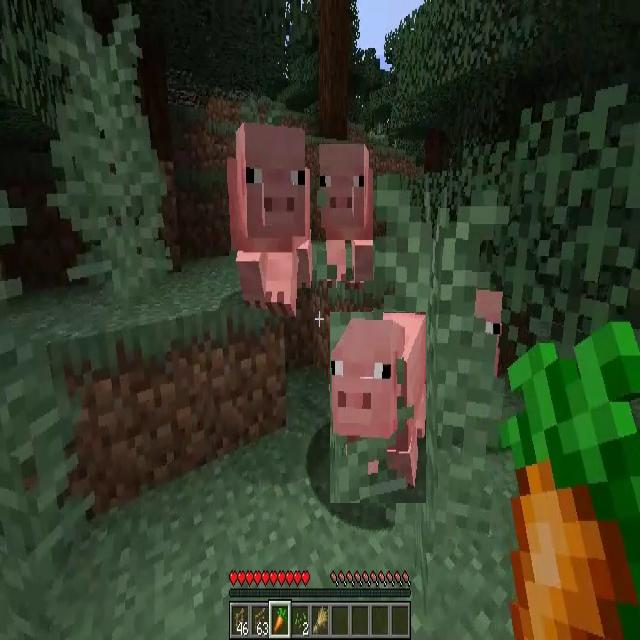pig: (330, 312, 426, 503), (236, 123, 313, 312), (317, 143, 373, 281)
